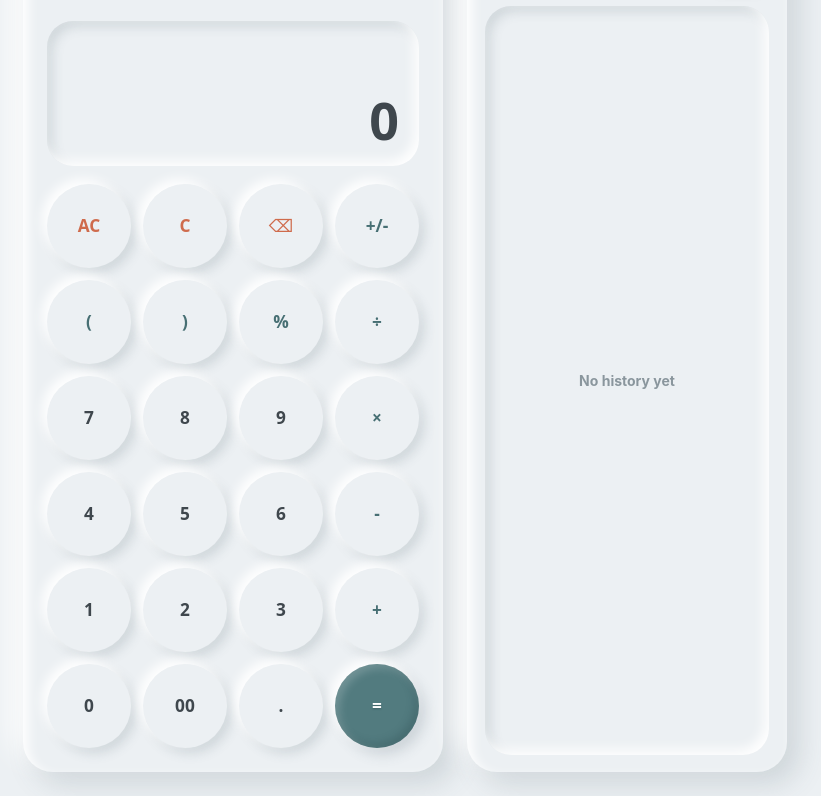
Test: App › adds double zero without expanding an empty zero value
(page scrolled)
Click the button "00": click(185, 706) [143,664,227,748]
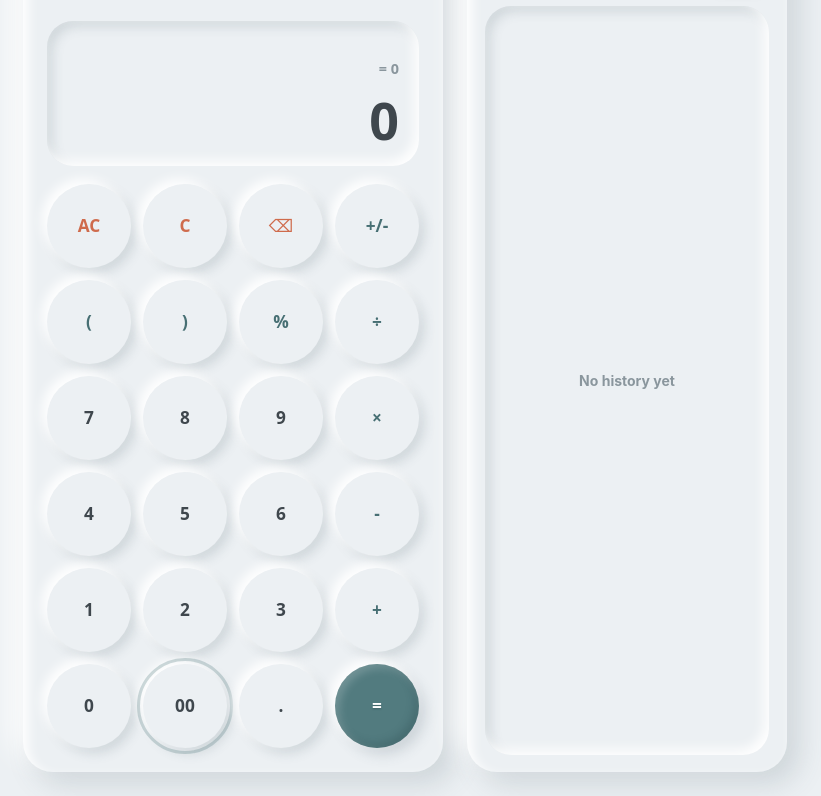
Expected: the element named "Calculator display" shows "0", [369,84,399,155]
Click the button "1": click(89, 610) [47,568,131,652]
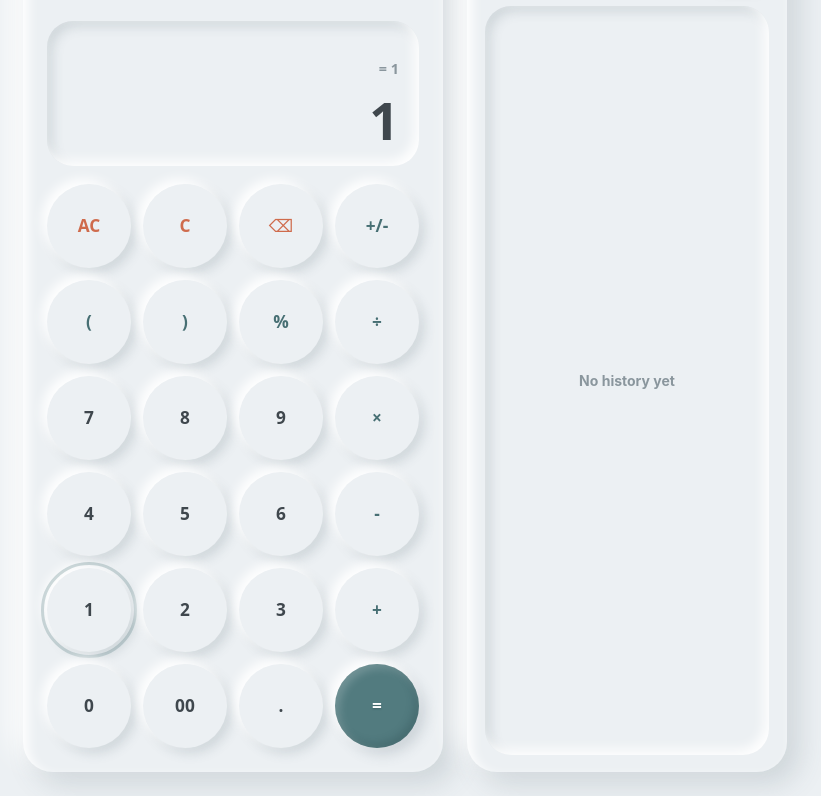
Click the button "00": click(185, 706) [143,664,227,748]
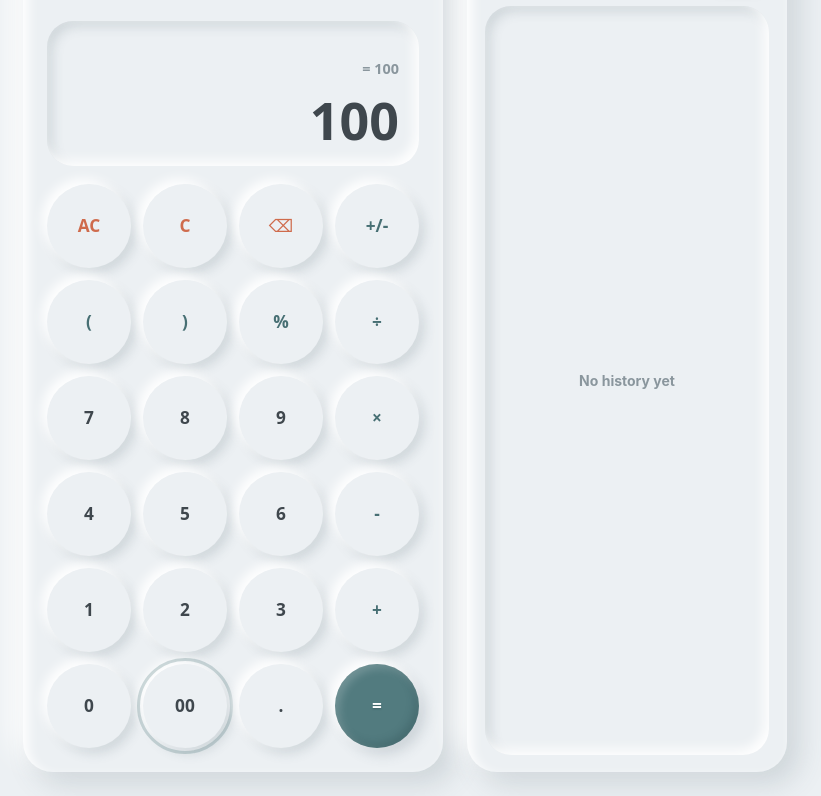
Expected: the element named "Calculator display" shows "100", [310,84,399,155]
